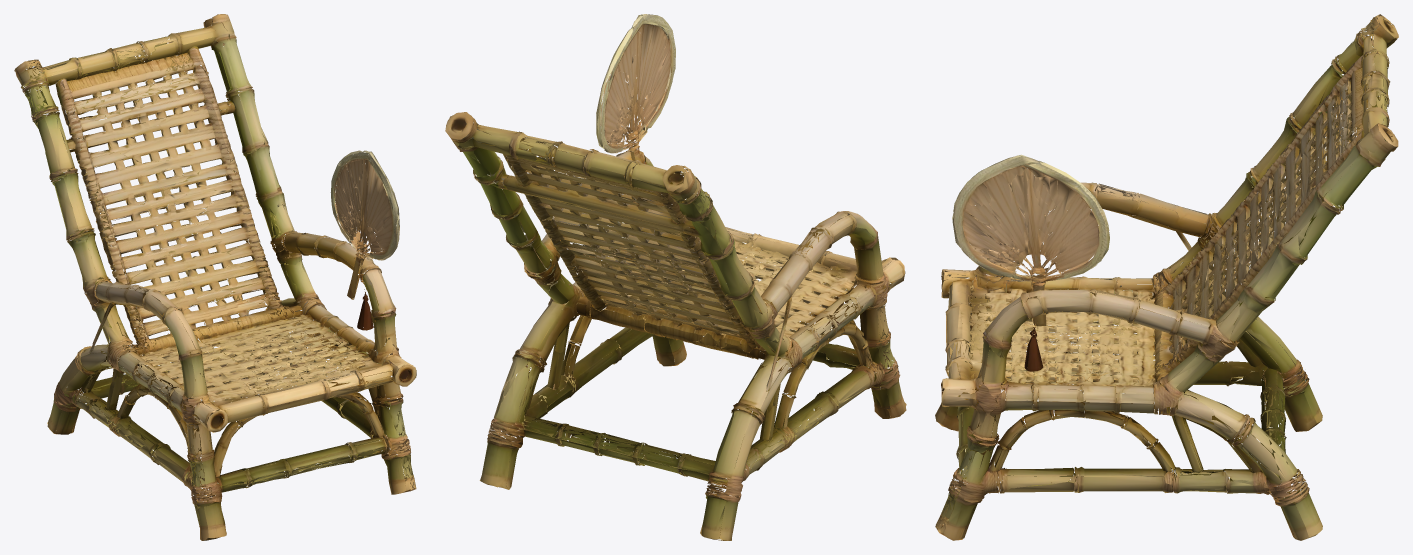
The model's file is recliner.glb.
3 renders of one model, left to right at view 1: azimuth 30°, elevation 25°; view 2: azimuth 150°, elevation 25°; view 3: azimuth 270°, elevation 25°, orthographic. The views are drawn at different scales.
Parts seen in each view (by area): view 1: node_0; view 2: node_0; view 3: node_0.
Part boxes in pixels (x1=…): node_0: x1=14, y1=14, x2=416, y2=540; node_0: x1=445, y1=14, x2=906, y2=540; node_0: x1=935, y1=14, x2=1398, y2=540.
Bounding box in the file's own units: 0.5145 × 0.7928 × 0.8085.
Materials: 1 (1 with a texture image).
